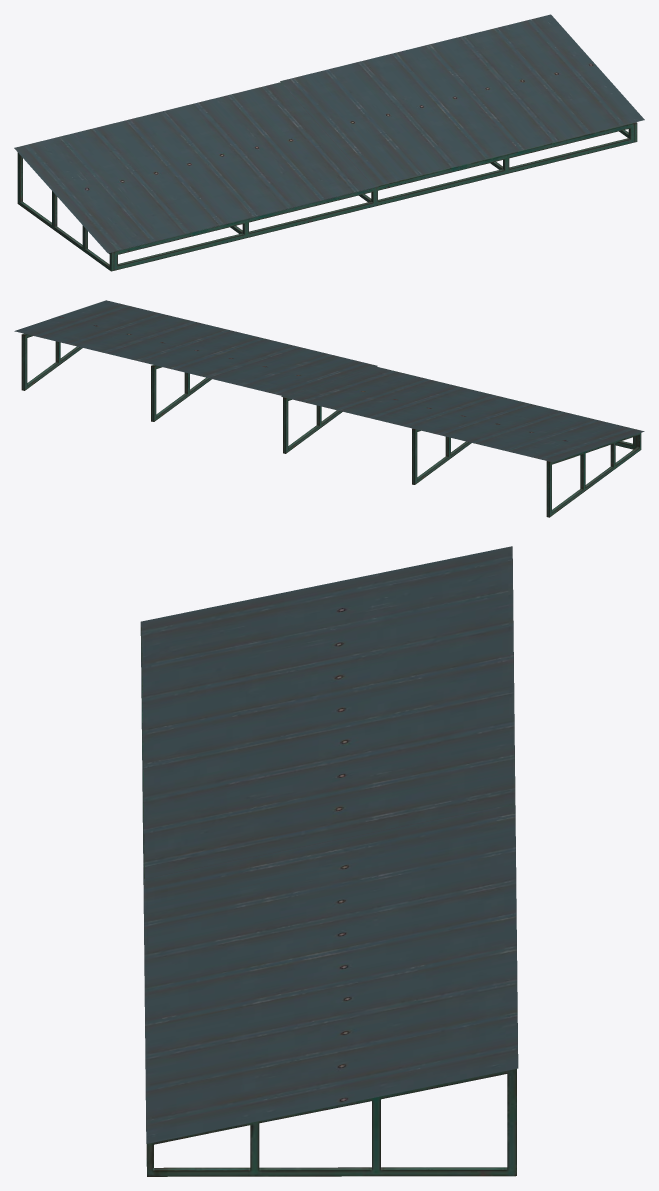
Rendered from awning_tin.glb.
The picture shows the model from 3 angles, top to bottom: view 1: azimuth 30°, elevation 25°; view 2: azimuth 150°, elevation 25°; view 3: azimuth 270°, elevation 25°; orthographic projection. The views are drawn at different scales.
Parts seen in each view (by area): view 1: awning lp_awinig metal_0; view 2: awning lp_awinig metal_0; view 3: awning lp_awinig metal_0.
Part boxes in pixels (x1,y1,x2,y2): awning lp_awinig metal_0: [14, 14, 644, 271]; awning lp_awinig metal_0: [14, 300, 644, 517]; awning lp_awinig metal_0: [140, 546, 518, 1176].
Size of the model in its own units: 1 by 0.1022 by 0.3039.
1 material, 1 textured.
